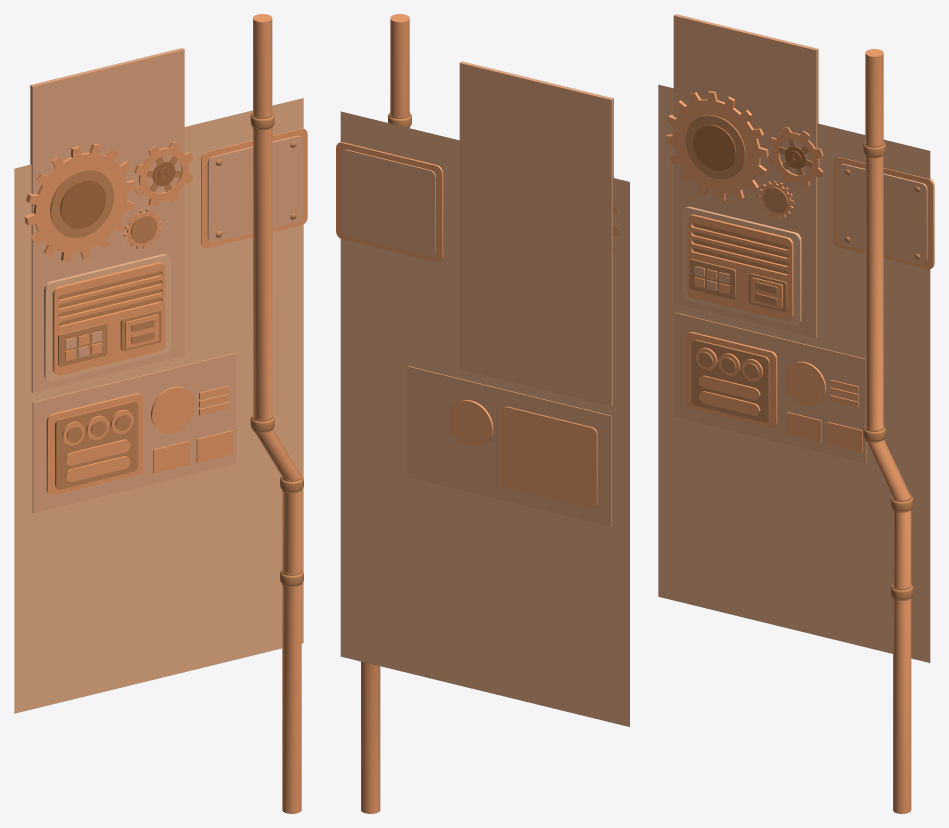
Rendered from level3.fbx.
The picture shows the model from 3 angles, left to right: view 1: azimuth 30°, elevation 25°; view 2: azimuth 150°, elevation 25°; view 3: azimuth 330°, elevation 25°; orthographic projection. The views are drawn at different scales.
Parts seen in each view (by area): view 1: Plane, Cube.006, Cube.001, Cylinder.001, Cube.007, Cylinder.005, Cube.009; view 2: Plane, Cube.006, Cube.001, Cube.009, Cylinder.001; view 3: Plane, Cube.006, Cube.001, Cylinder.001, Cube.007, Cylinder.005, Cube.009.
Boxes of the visible parts, <box> form: Plane: <box>14,98,303,713</box>; Cube.006: <box>30,48,184,392</box>; Cube.001: <box>32,353,236,513</box>; Cylinder.001: <box>253,14,301,813</box>; Cube.007: <box>44,254,170,381</box>; Cylinder.005: <box>24,141,192,261</box>; Cube.009: <box>201,128,307,248</box>; Plane: <box>340,111,629,726</box>; Cube.006: <box>459,61,613,406</box>; Cube.001: <box>407,366,611,526</box>; Cube.009: <box>336,142,443,261</box>; Cylinder.001: <box>361,14,409,813</box>; Plane: <box>658,84,930,662</box>; Cube.006: <box>673,14,818,337</box>; Cube.001: <box>675,312,866,463</box>; Cylinder.001: <box>865,49,911,813</box>; Cube.007: <box>682,206,801,326</box>; Cylinder.005: <box>665,91,823,218</box>; Cube.009: <box>833,157,934,269</box>.
Size of the model in its own units: 10.12 by 26.38 by 1.03.
